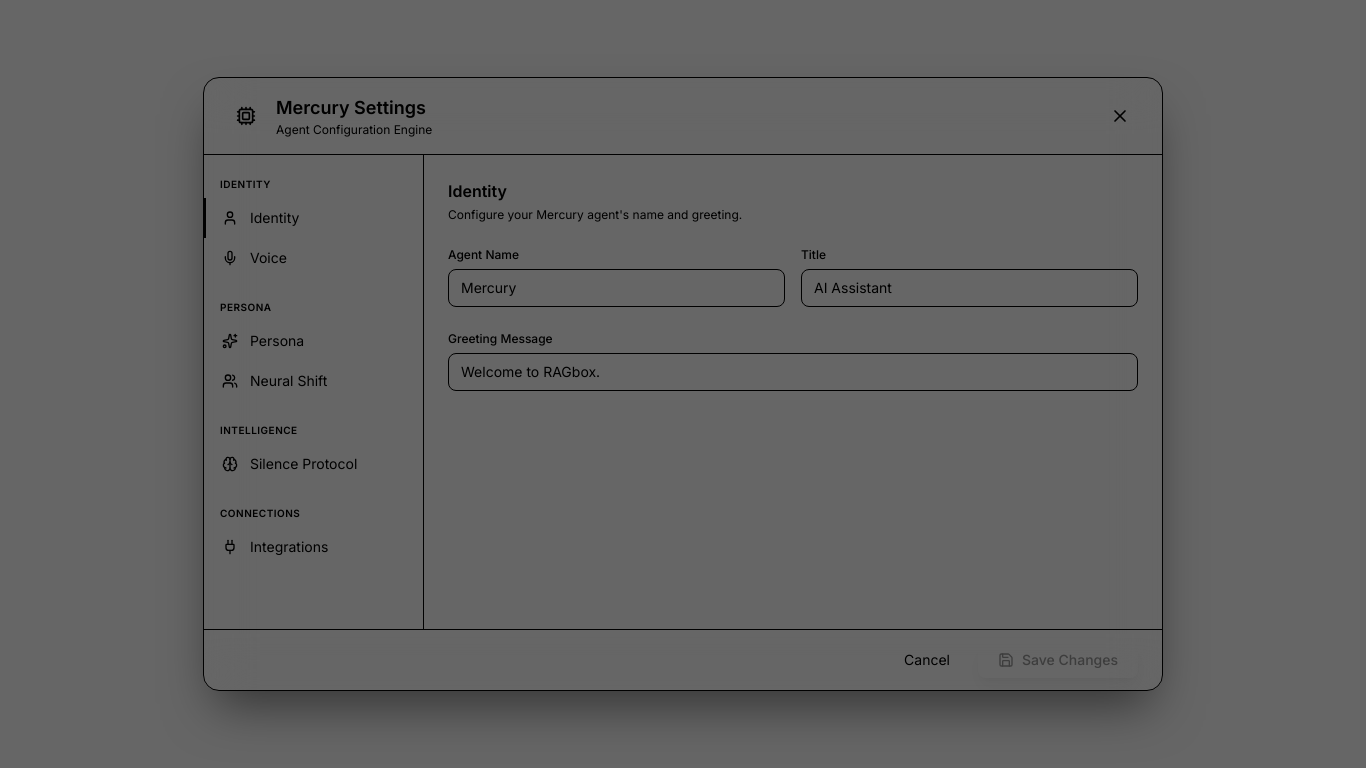
Test: MercurySettingsModal › switches sections when nav item is clicked
Expected: the text "Agent Name" is shown, [448,247,519,262]
Expected: the field with placeholder "Mercury" below "Agent Name" is shown, [448,269,785,307]
// Click Silence Protocol nav
Click the button "Silence Protocol".
click(314, 464)  # box [204,444,423,484]
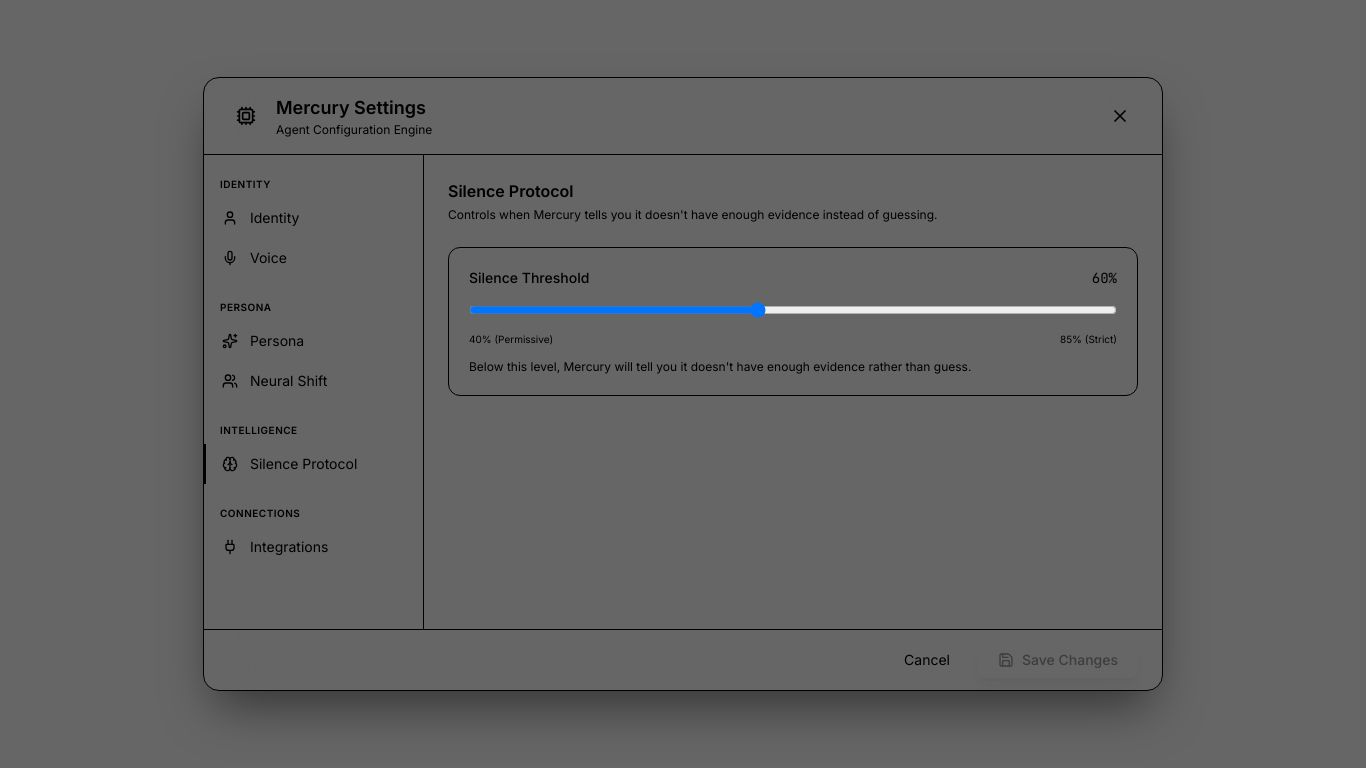
Expected: the text "Silence Threshold" is shown, [469,268,589,288]
